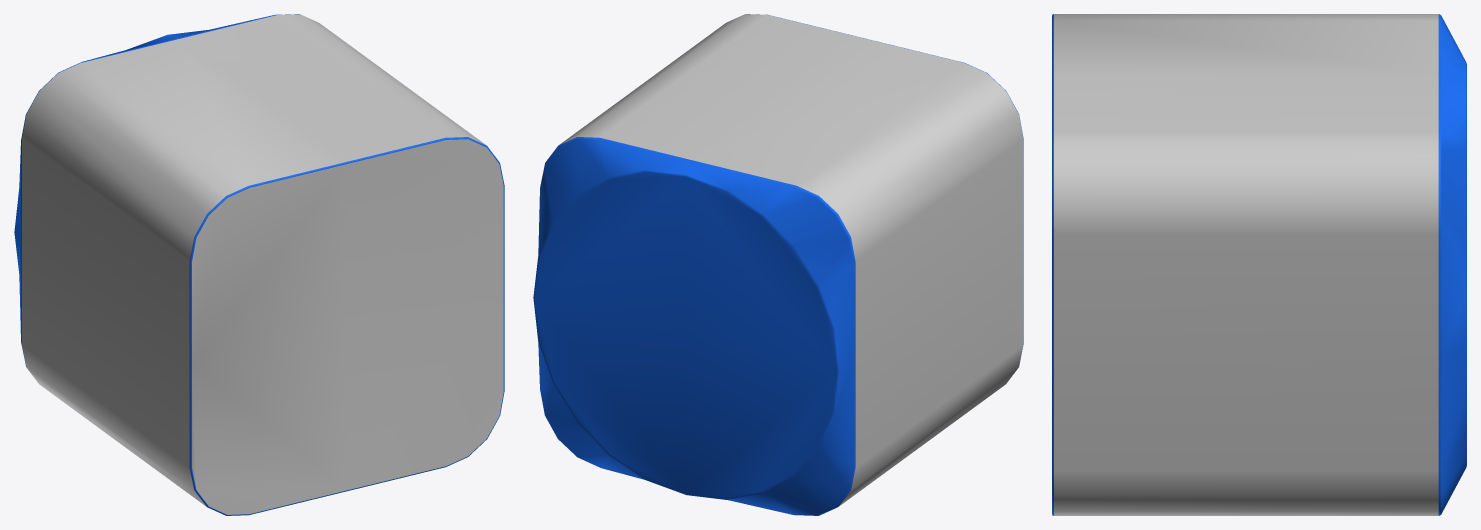
The picture shows the model from 3 angles, left to right: view 1: azimuth 30°, elevation 25°; view 2: azimuth 150°, elevation 25°; view 3: azimuth 270°, elevation 25°; orthographic projection. The views are drawn at different scales.
Parts seen in each view (by area): view 1: center_B; view 2: center_B; view 3: center_B.
Boxes of the visible parts, left/top/right/bottom form: center_B: left=14, top=14, right=504, bottom=515; center_B: left=533, top=14, right=1023, bottom=515; center_B: left=1052, top=14, right=1466, bottom=515.
Size of the model in its own units: 0.2003 by 0.2003 by 0.1996.
1 material, 1 textured.
